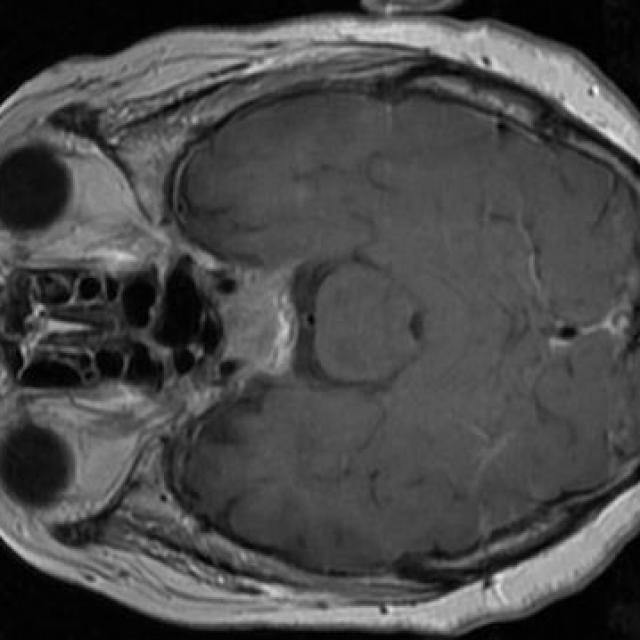pituitary: (223, 271, 298, 376)
